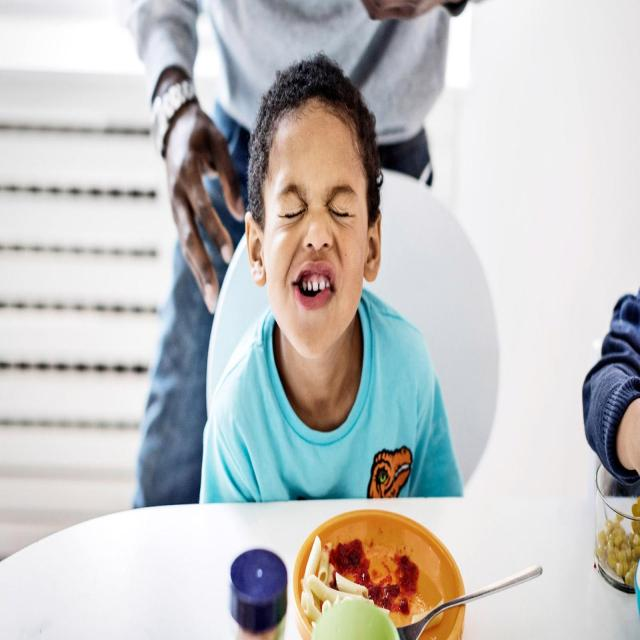child: (190, 47, 460, 511)
